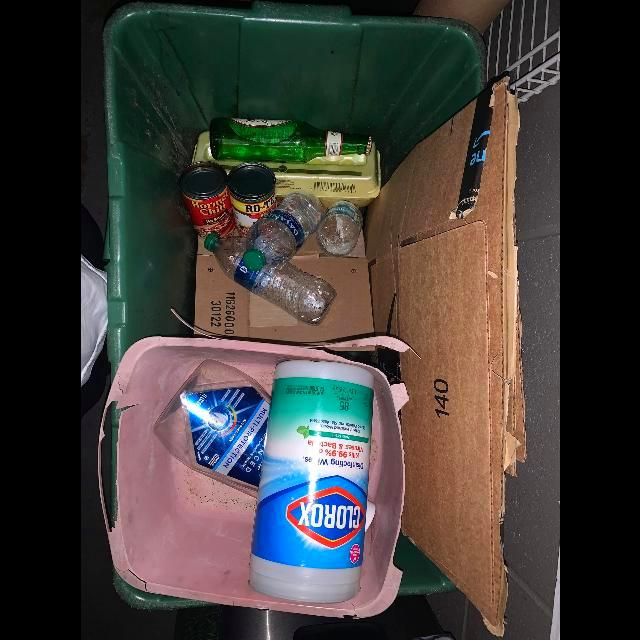aluminum: (178, 162, 235, 238), (226, 163, 276, 237)
cardboard: (363, 77, 529, 640), (193, 232, 374, 343)
glass_bottle: (209, 118, 372, 164)
plastic_bottle: (247, 361, 374, 604), (152, 359, 270, 499), (203, 233, 337, 326), (242, 192, 323, 272), (316, 201, 362, 257)
